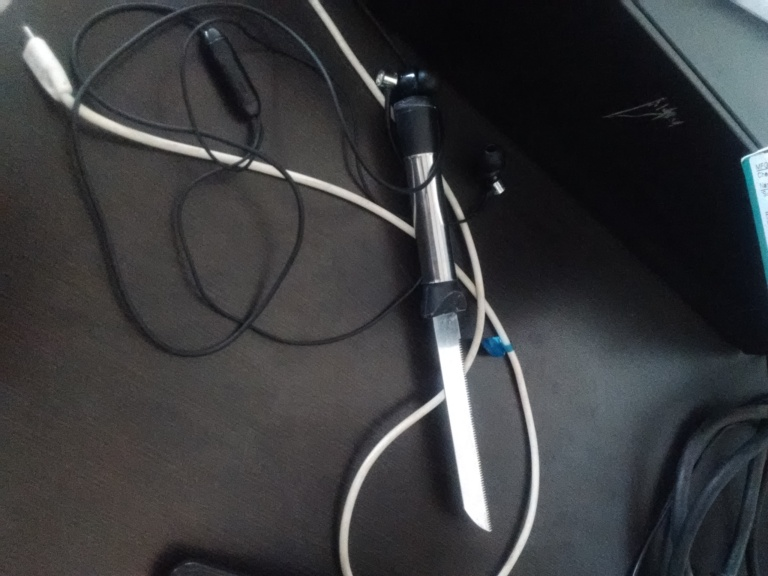knife: (392, 93, 496, 532)
